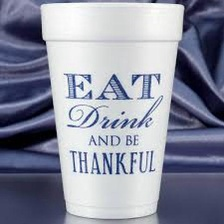paper_cup: (35, 0, 188, 223)
